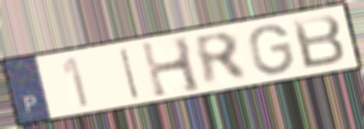1: (60, 53, 91, 110)
B: (289, 13, 348, 71)
G: (247, 23, 296, 77)
H: (138, 34, 205, 100)
I: (118, 45, 142, 102)
R: (189, 30, 252, 89)
